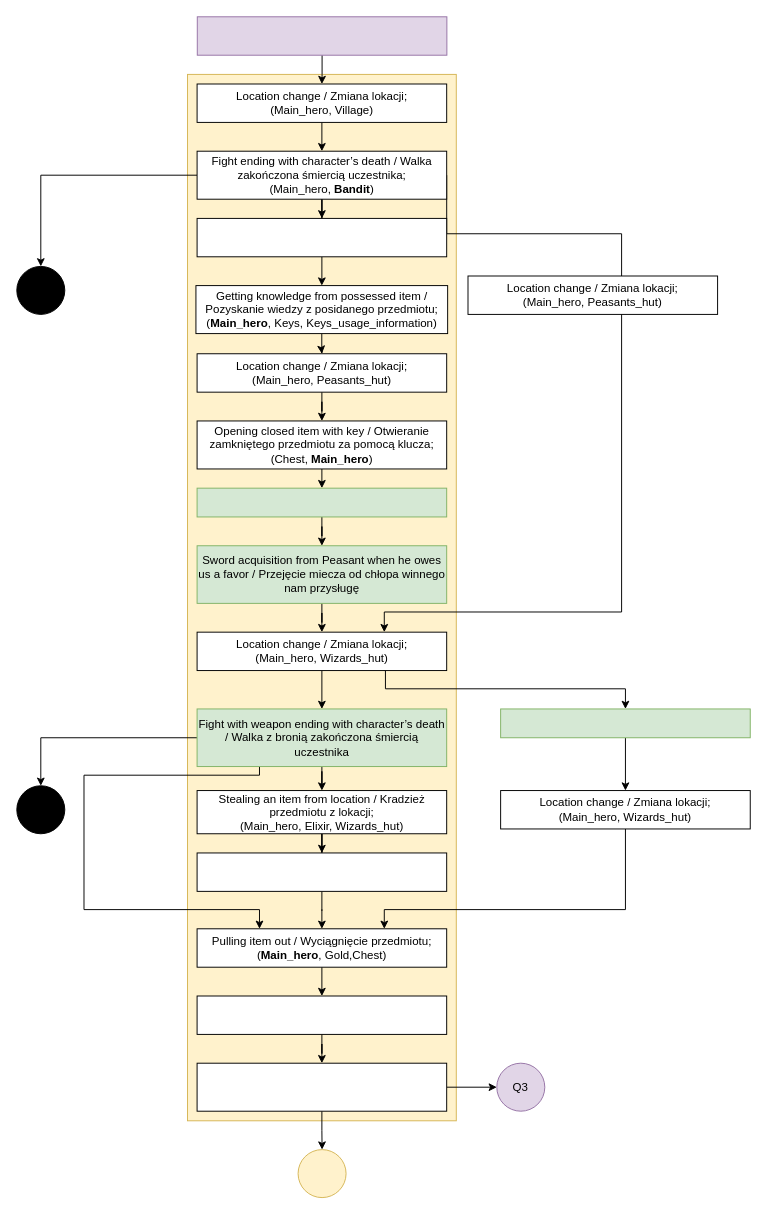
The diagram is 767 pixels wide and 1214 high, and some of its shapes have lost their labels. Here are the shapes that lost their labels. From the top down, the box of each, then its label:
(196, 16, 447, 55): (Zdobycie pochodni, Q1)
(196, 217, 447, 257): Picking item up / Podniesienie przedmiotu; ( Main_hero , Keys)
(196, 487, 447, 517): Saving Peasant / Uratowanie chłopa
(500, 708, 750, 738): Arson hut / Podpalenie chaty czarodzieja
(196, 852, 447, 891): Nutrition / Odżywianie; (Main_hero, Elixir)
(196, 995, 447, 1034): Location change / Zmiana lokacji; (Main_hero, Port)
(196, 1062, 447, 1111): Making a barter deal / Transakcja barterowa; ( Main_hero, Gold, Merchant, Boat)
